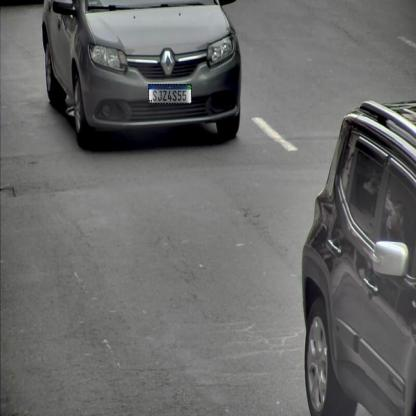PlacaM: (148, 84, 192, 104)
